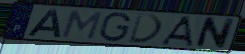A: (159, 15, 195, 48), (25, 8, 62, 39)
D: (127, 12, 165, 45)
G: (98, 11, 133, 43)
M: (59, 9, 105, 41)
N: (193, 16, 237, 50)
